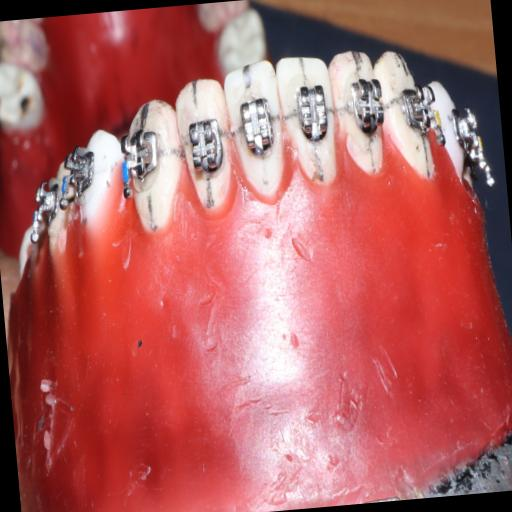correct_brace: (182, 110, 228, 182), (234, 90, 279, 160), (290, 80, 331, 144)
incorrect_brace: (170, 68, 240, 224)
